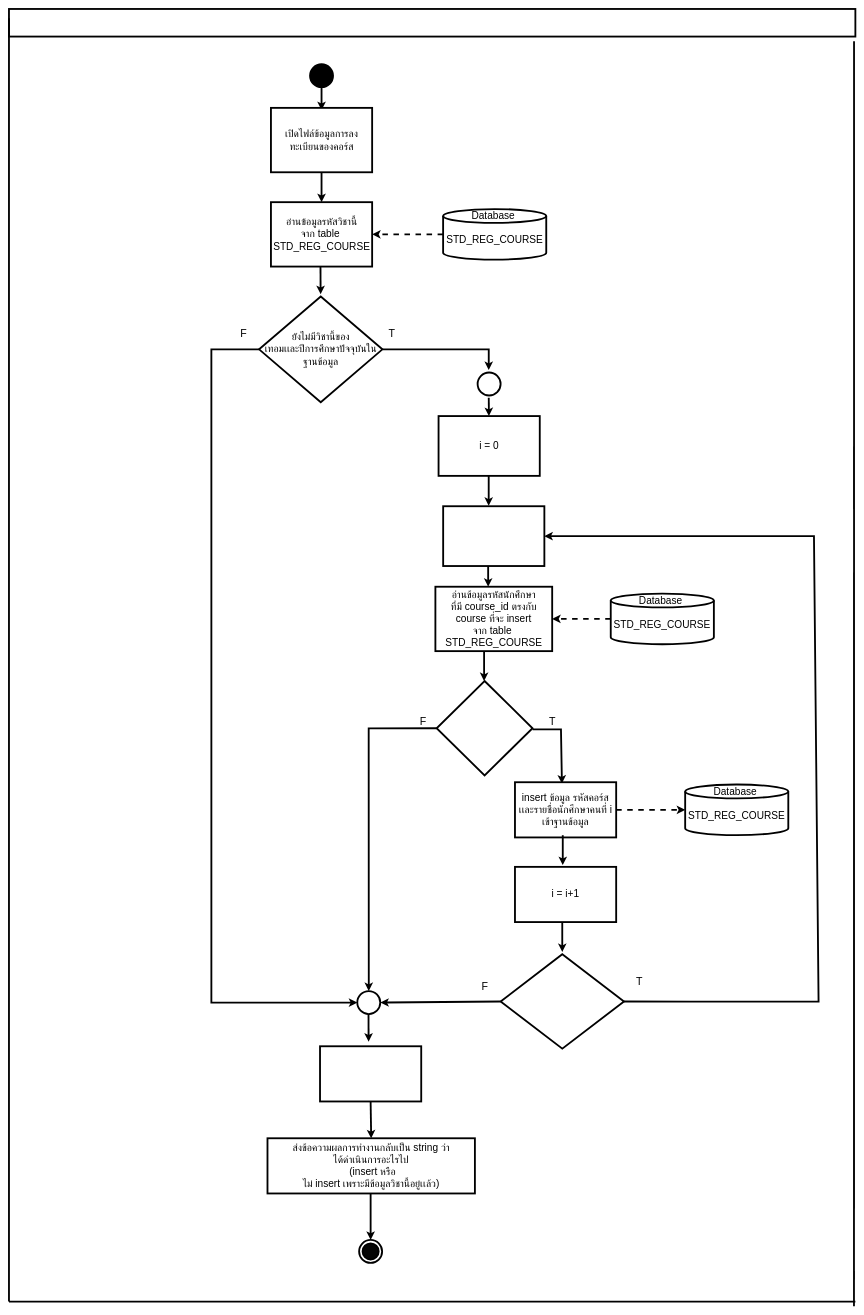
This 864x1315 diagram has some shape labels left out. The centre of each missing label's shape, as x and y in pixels:
"i น้อยกว่าขนาด ของอาเรย์ ที่เก็บรายชื่อนักศึกษา" goes at pixel 562 1001.
"User" goes at pixel 432 22.
"บันทึก activity ที่ทำเข้า log file" goes at pixel 370 1073.
"สกัดข้อมูลรายชื่อนักศึกษาคนที่ i จากไฟล์" goes at pixel 493 536.
"ไม่มีรหัสนักศึกษา คนนี้ใน ในฐานข้อมูล" goes at pixel 484 728.
